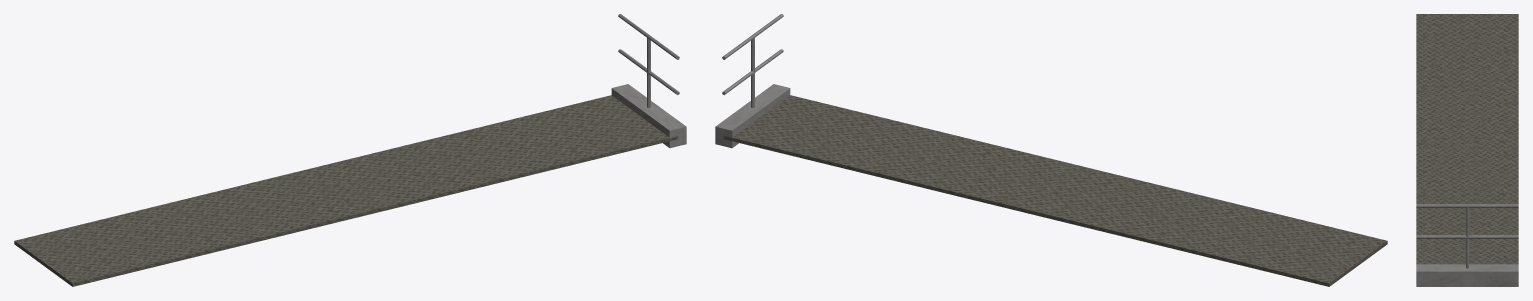
File: lab-platform-side.fbx
3 renders of one model, left to right at view 1: azimuth 30°, elevation 25°; view 2: azimuth 150°, elevation 25°; view 3: azimuth 270°, elevation 25°, orthographic. The views are drawn at different scales.
Visible parts, largest first — view 1: floor3, left1; view 2: floor3, left1; view 3: floor3, left1, rail2, rail1, rail.
Part boxes in pixels (left/top/right/bottom): floor3: left=14, top=95, right=678, bottom=286; left1: left=611, top=84, right=686, bottom=148; floor3: left=723, top=95, right=1387, bottom=286; left1: left=715, top=84, right=790, bottom=148; floor3: left=1416, top=14, right=1518, bottom=264; left1: left=1416, top=264, right=1518, bottom=286; rail2: left=1416, top=204, right=1518, bottom=207; rail1: left=1416, top=235, right=1518, bottom=238; rail: left=1466, top=207, right=1468, bottom=268.
Size of the model in its own units: 1825 by 255 by 300.
